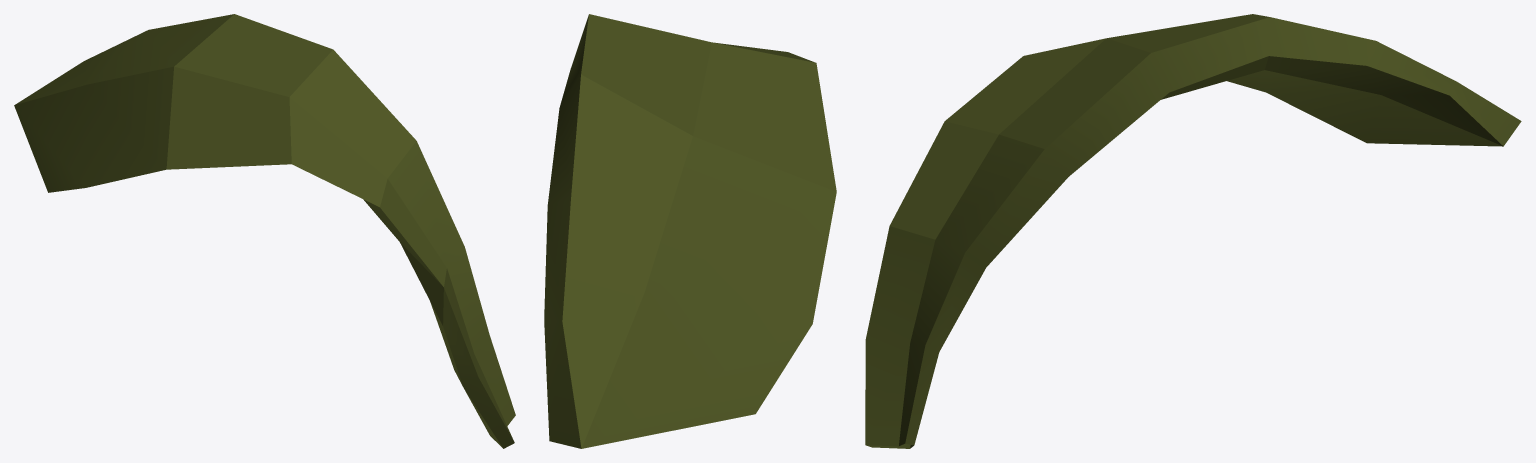
Rendered from ea_swamp_leaf_01a_pre__21_lev1.glb.
3 renders of one model, left to right at view 1: azimuth 30°, elevation 25°; view 2: azimuth 150°, elevation 25°; view 3: azimuth 270°, elevation 25°, orthographic. The views are drawn at different scales.
Visible parts, largest first — view 1: ea_swamp_leaf_01a_pre__21_lev1; view 2: ea_swamp_leaf_01a_pre__21_lev1; view 3: ea_swamp_leaf_01a_pre__21_lev1.
Boxes of the visible parts, x1,y1,x2,y2 form: ea_swamp_leaf_01a_pre__21_lev1: (14, 14, 515, 448); ea_swamp_leaf_01a_pre__21_lev1: (544, 14, 836, 448); ea_swamp_leaf_01a_pre__21_lev1: (865, 14, 1521, 448).
Size of the model in its own units: 0.7706 by 0.8882 by 1.4.
Materials: 1 (1 with a texture image).
